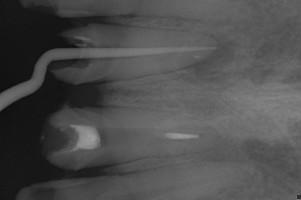Furcation Involvement: (179, 34, 234, 85)
